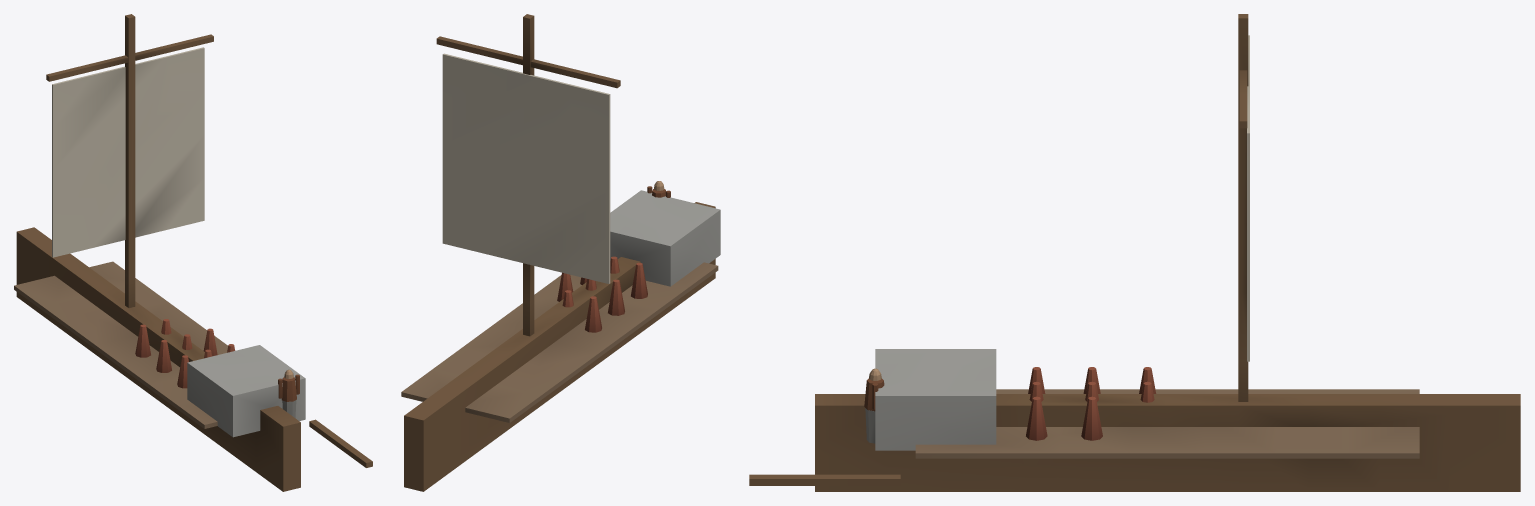
The model's file is boat.glb.
The picture shows the model from 3 angles, left to right: view 1: azimuth 30°, elevation 25°; view 2: azimuth 150°, elevation 25°; view 3: azimuth 270°, elevation 25°; orthographic projection. The views are drawn at different scales.
Visible parts, largest first — view 1: base; view 2: base; view 3: base.
Boxes of the visible parts, x1,y1,x2,y2 form: base: [14, 14, 372, 491]; base: [401, 14, 720, 491]; base: [749, 14, 1520, 491].
Size of the model in its own units: 5 by 10.29 by 15.3.
